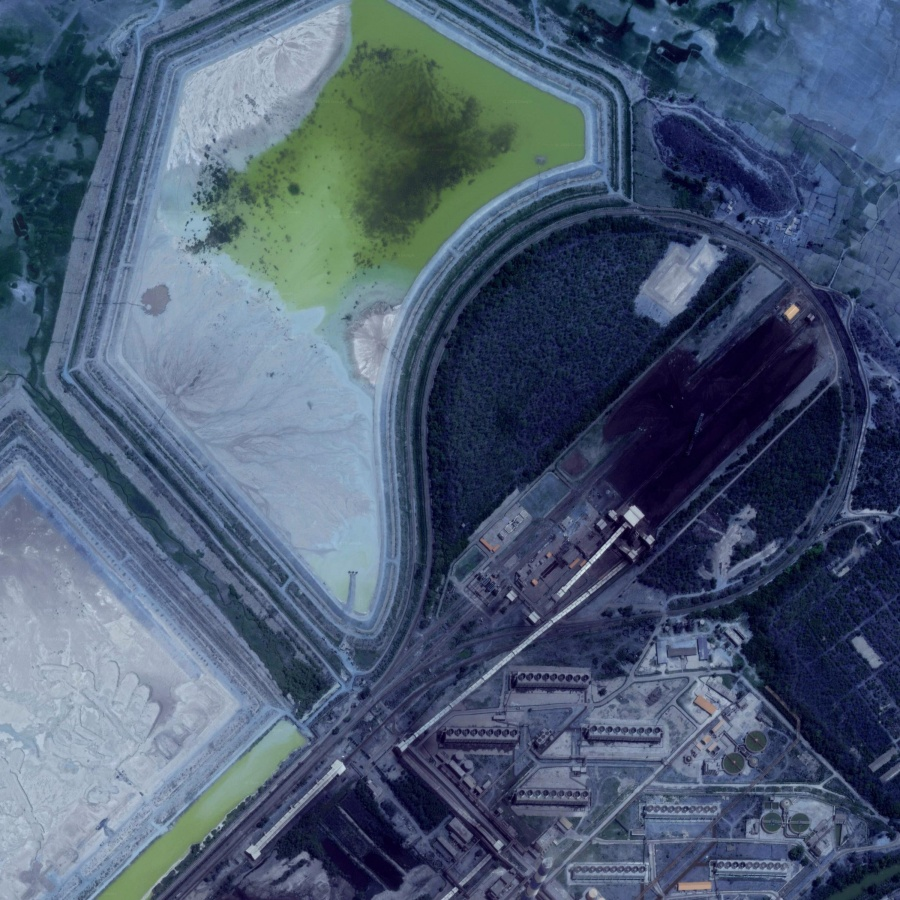PowerPlant: (556, 284, 835, 566)
